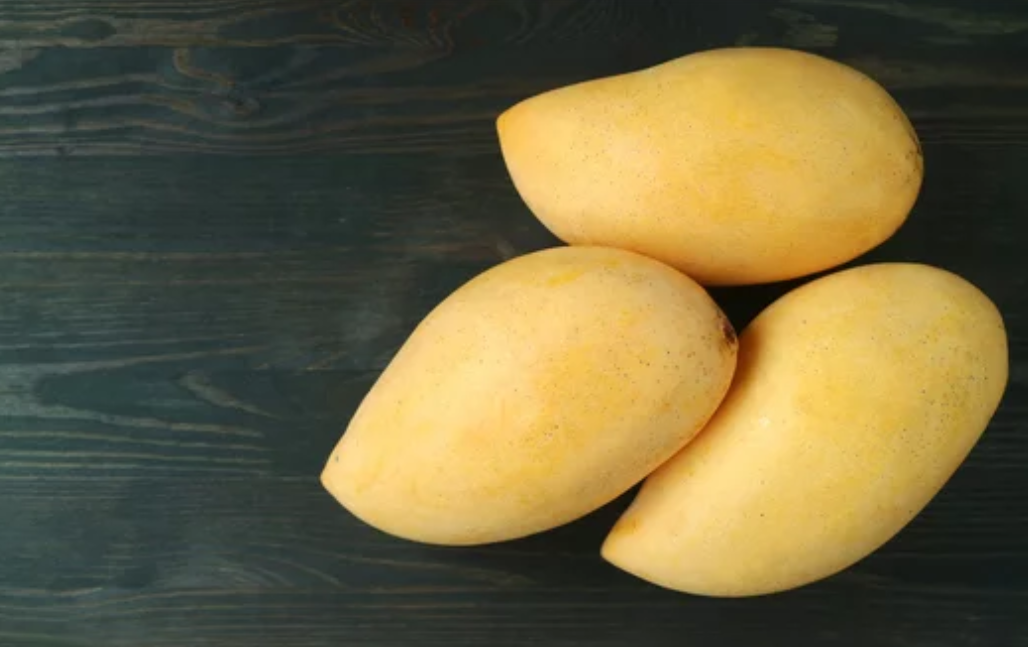mango: (593, 259, 1009, 601), (317, 245, 745, 539), (489, 40, 926, 283)
